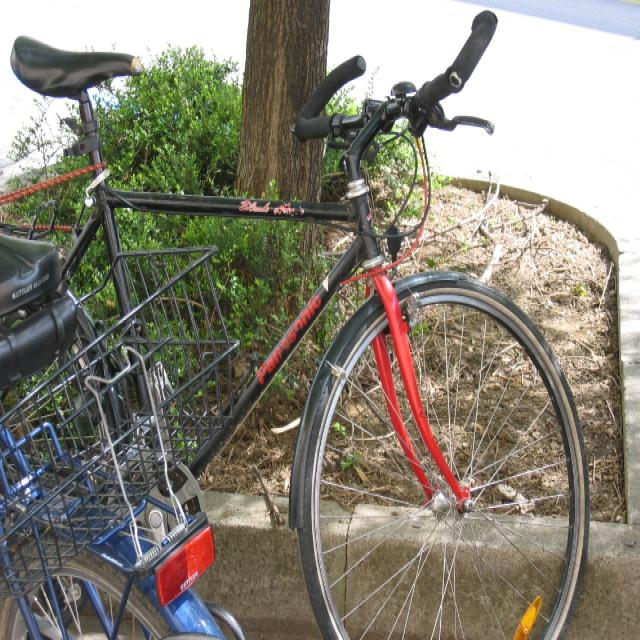bicycle: (0, 11, 590, 638)
